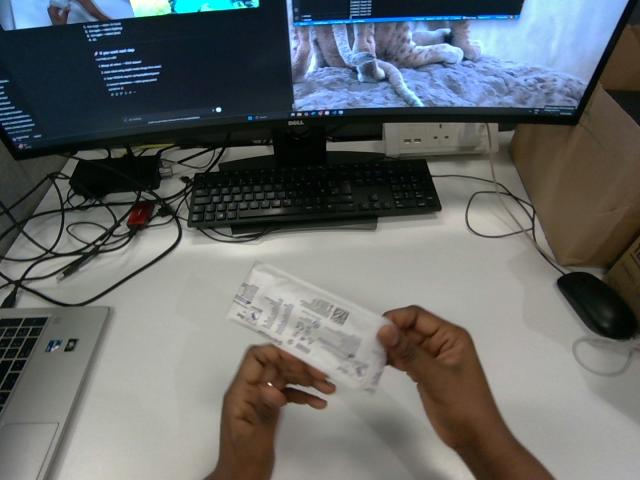syringe: (227, 262, 388, 392)
